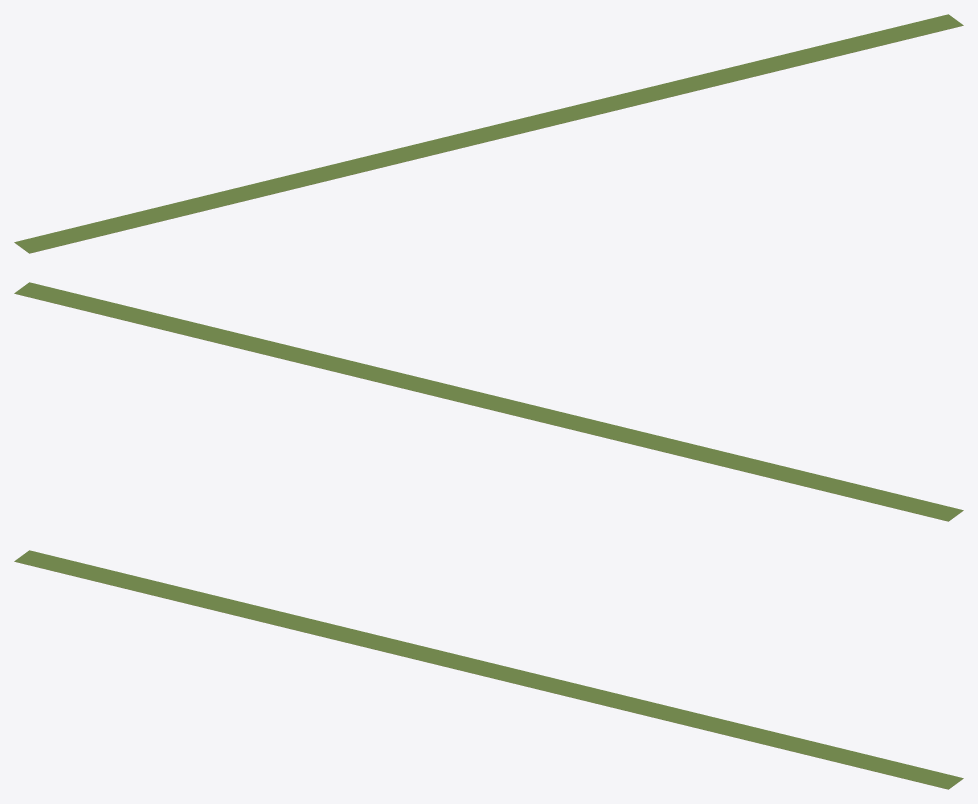
File: region_-1_-2.glb
3 views of the same model, one above another, from view 1: azimuth 30°, elevation 25°; view 2: azimuth 150°, elevation 25°; view 3: azimuth 330°, elevation 25° (orthographic).
Visible parts, largest first — view 1: OD_Meadow; view 2: OD_Meadow; view 3: OD_Meadow.
Part boxes in pixels (left/top/right/bottom): OD_Meadow: left=14, top=14, right=963, bottom=253; OD_Meadow: left=14, top=282, right=963, bottom=521; OD_Meadow: left=14, top=550, right=963, bottom=789.
Size of the model in its own units: 29.03 by 0.00518 by 0.8294.
